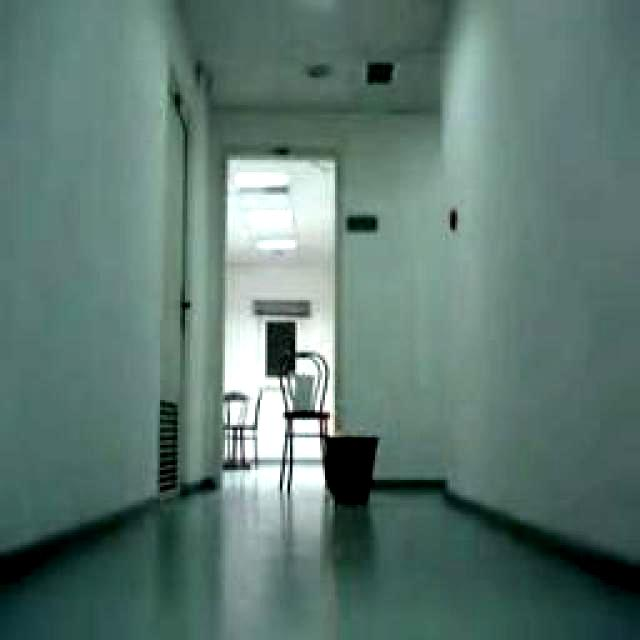fire: (330, 424, 342, 436)
